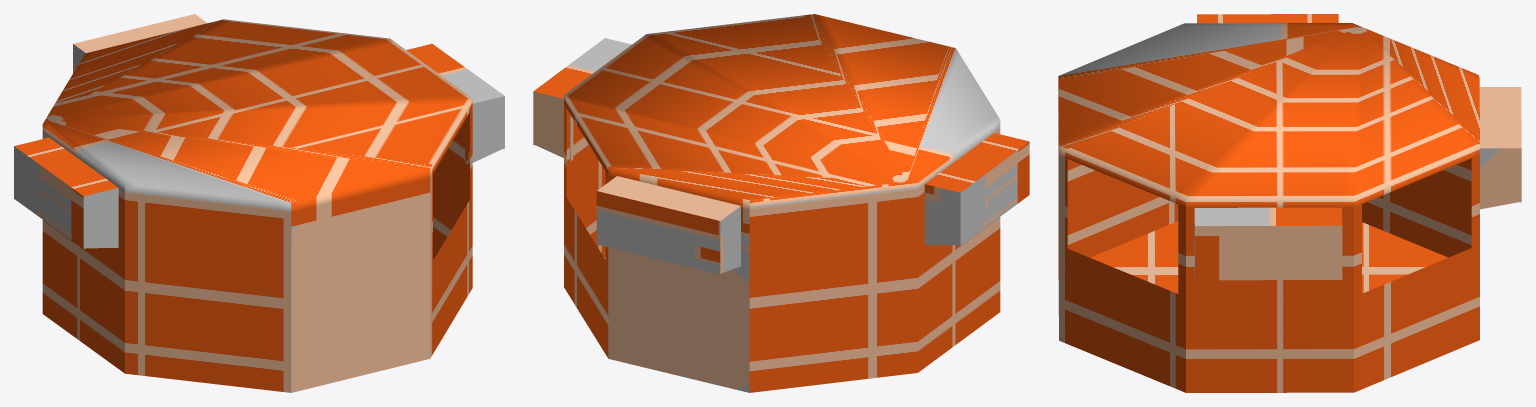
File: 3_balkonlu_kat_2.fbx
3 views of the same model, side by side, from view 1: azimuth 30°, elevation 25°; view 2: azimuth 150°, elevation 25°; view 3: azimuth 270°, elevation 25° (orthographic). The views are drawn at different scales.
Visible parts, largest first — view 1: Cube.003; view 2: Cube.003; view 3: Cube.003.
Boxes of the visible parts, left/top/right/bottom form: Cube.003: left=14, top=14, right=504, bottom=392; Cube.003: left=533, top=14, right=1029, bottom=392; Cube.003: left=1058, top=14, right=1521, bottom=392.
Bounding box in the file's own units: 236 × 102 × 219.
